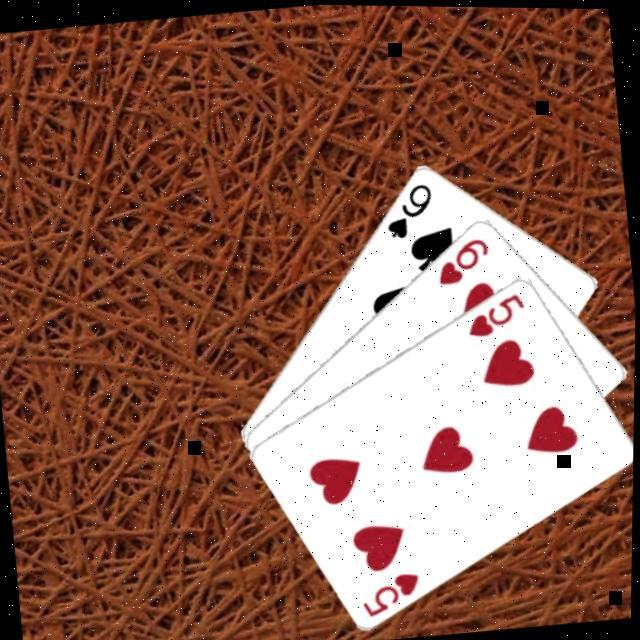5H: (356, 565, 426, 621), (462, 287, 530, 340)
6H: (430, 232, 494, 289)
9S: (378, 178, 438, 242)
